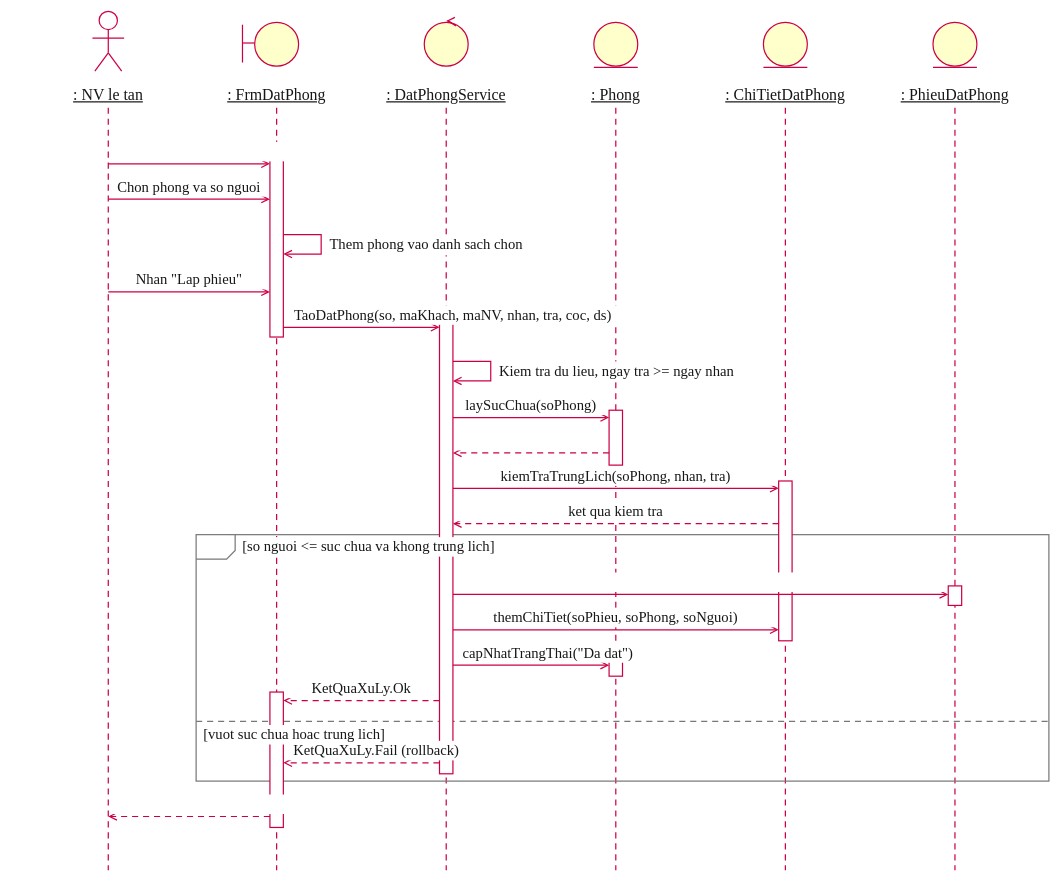
The diagram is 1063 pixels wide and 881 high, and some of its shapes have lost their labels. The box of each missing label's shape, as (x1, y1, x2, y2) in pixels:
alt: (199, 536, 228, 556)
Chon khach, le tan, kenh dat, ngay nhan/tra, tien coc: (113, 142, 432, 161)
SoNguoiToiDa: (458, 431, 604, 450)
themPhieuDat(..., "Da dat"): (458, 572, 943, 592)
Thong bao ket qua lap phieu: (113, 794, 289, 814)
